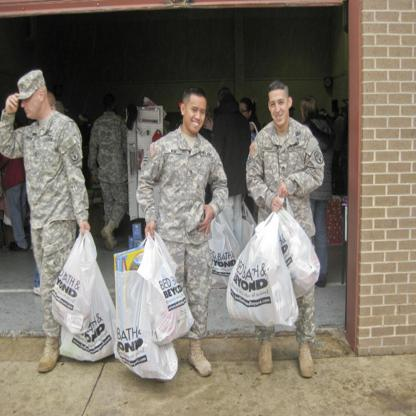face: (186, 97, 208, 133), (269, 90, 290, 127), (21, 90, 41, 119), (45, 98, 57, 117), (239, 103, 249, 121)
